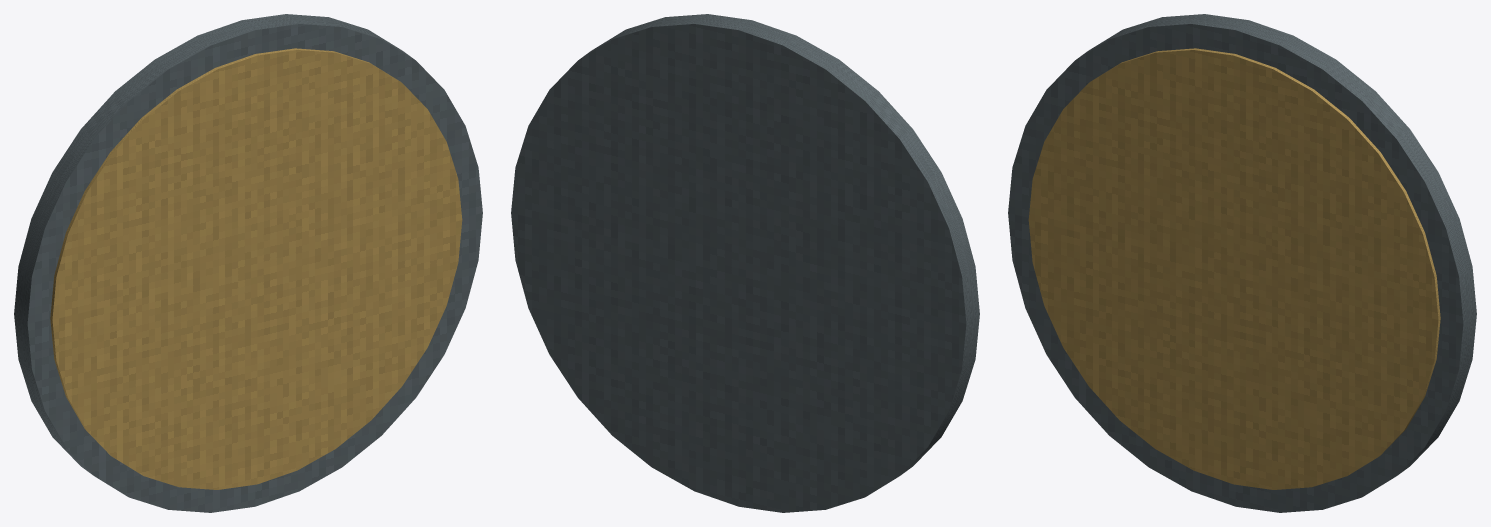
File: crest.glb
3 renders of one model, left to right at view 1: azimuth 30°, elevation 25°; view 2: azimuth 150°, elevation 25°; view 3: azimuth 330°, elevation 25°, orthographic.
Parts seen in each view (by area): view 1: face, rim; view 2: rim; view 3: face, rim.
Boxes of the visible parts, bbox=[...] form: face: bbox=[50, 48, 462, 489]; rim: bbox=[14, 14, 482, 512]; rim: bbox=[511, 14, 979, 512]; face: bbox=[1028, 48, 1440, 489]; rim: bbox=[1008, 14, 1476, 512].
Size of the model in its own units: 0.34 by 0.34 by 0.0203.
Materials: 2 (2 with a texture image).
